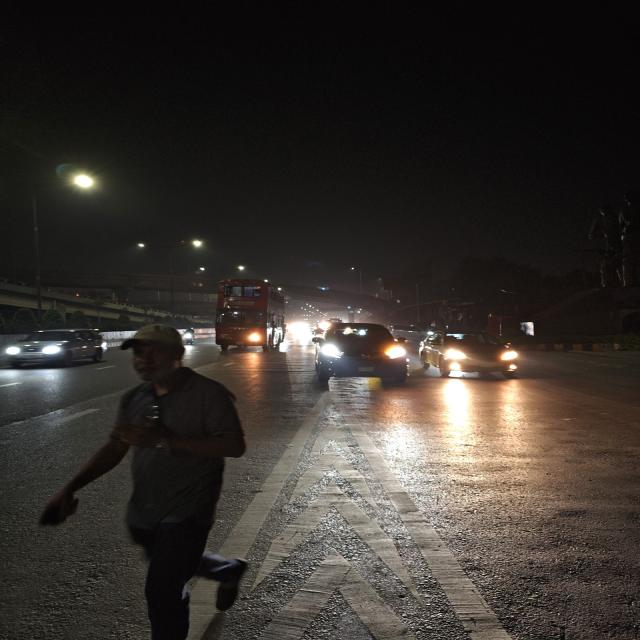bus: (211, 276, 284, 352)
car: (308, 320, 414, 390), (417, 328, 527, 384), (2, 326, 112, 371)
motorcycle: (308, 324, 328, 346), (180, 325, 198, 346)
pedestrian: (95, 335, 257, 640)
